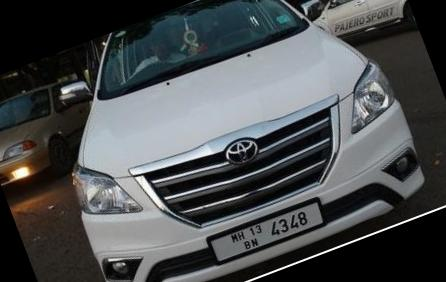plate: (192, 180, 342, 274)
